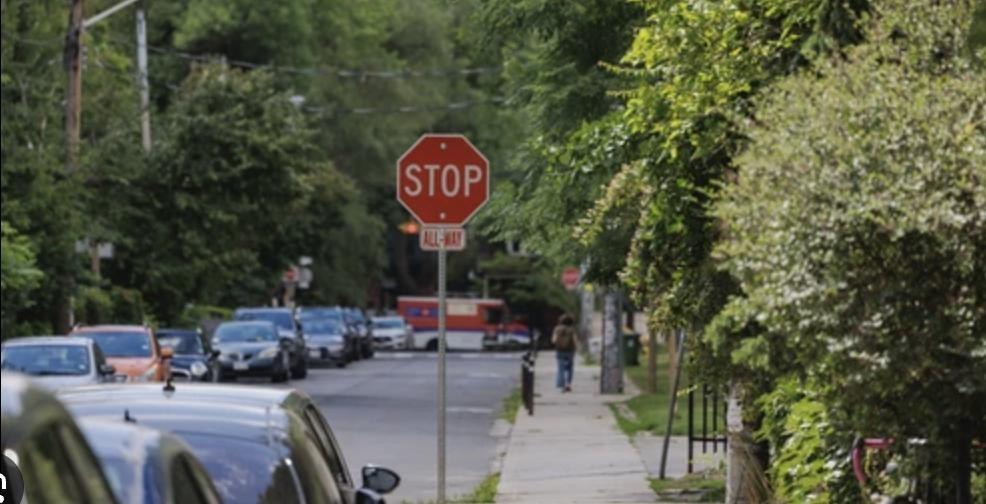Stop-Sign: (397, 135, 489, 227)
